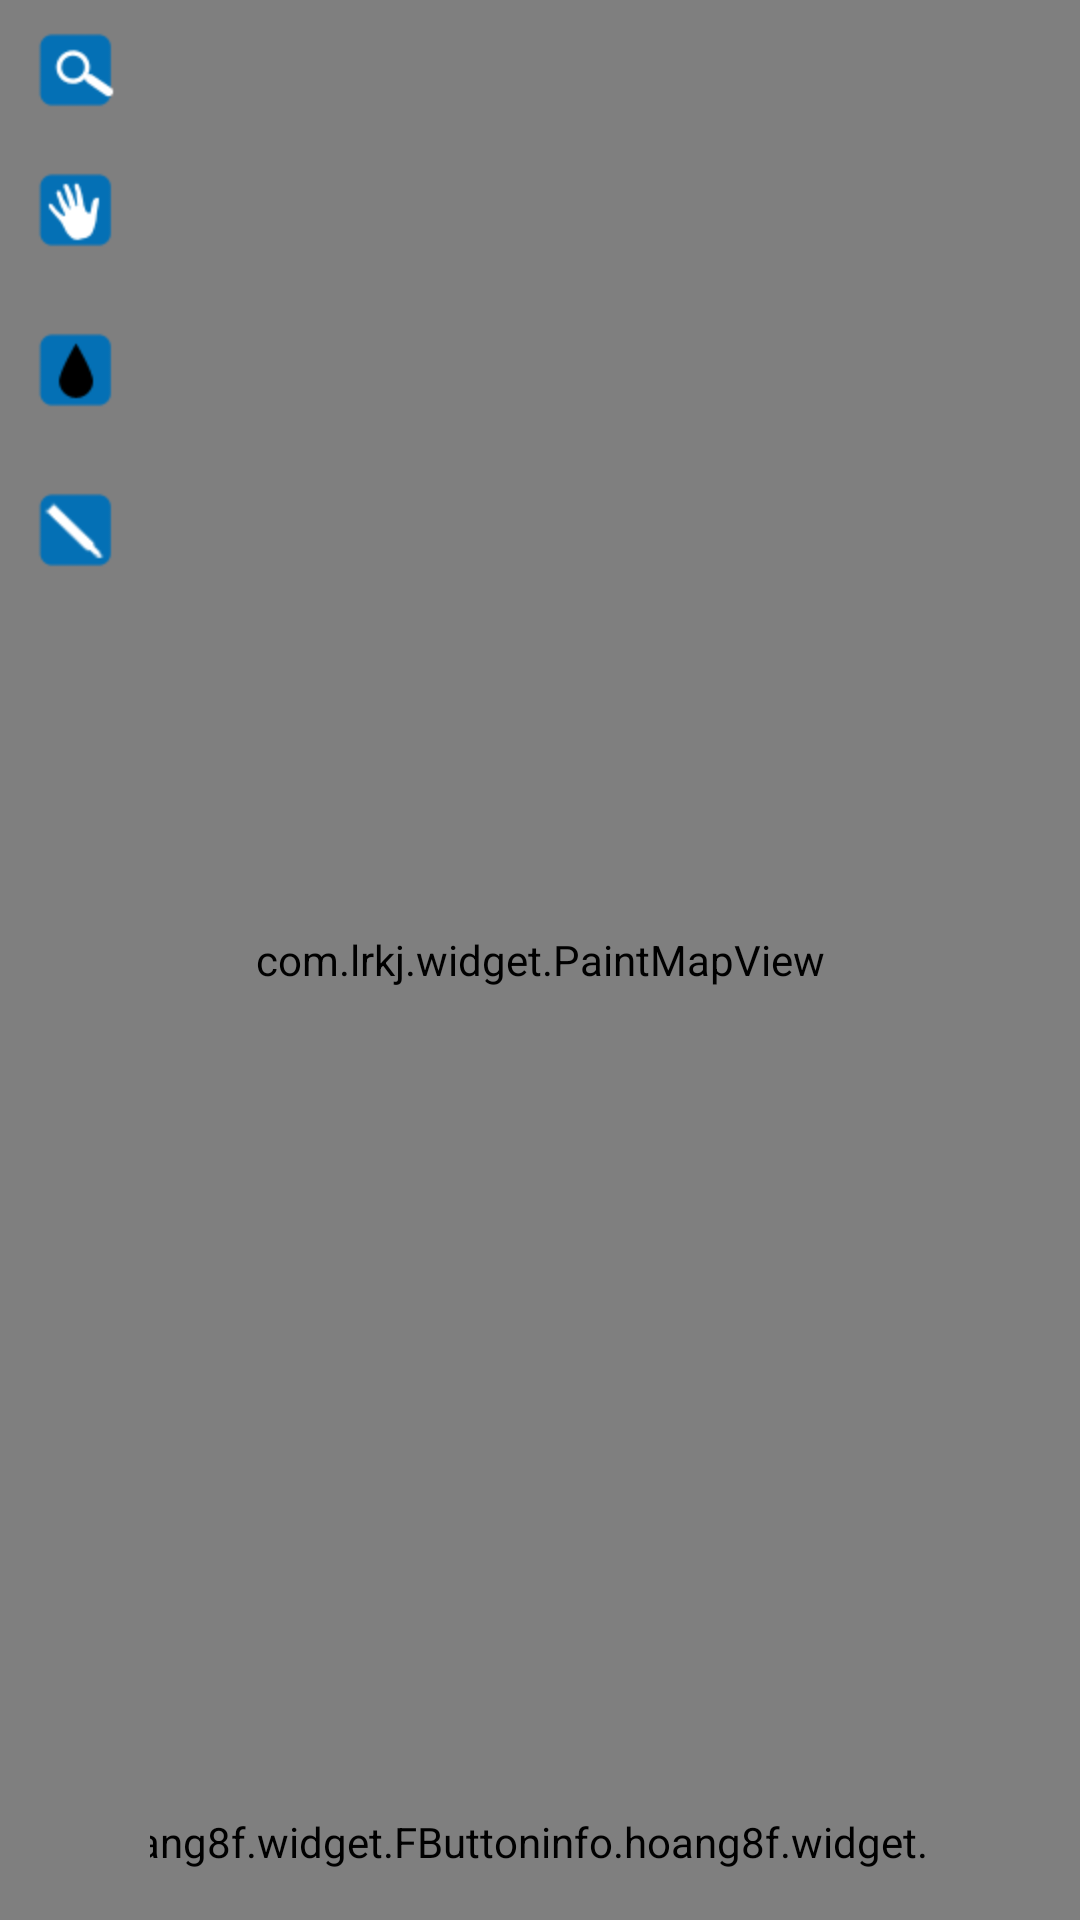

Icons on this 1080x1920 Android screen, each with its box as (x1, y1, x2, y2):
ink: (39, 334, 112, 406)
move: (39, 174, 112, 246)
pen: (39, 494, 112, 566)
scale: (39, 34, 114, 106)
